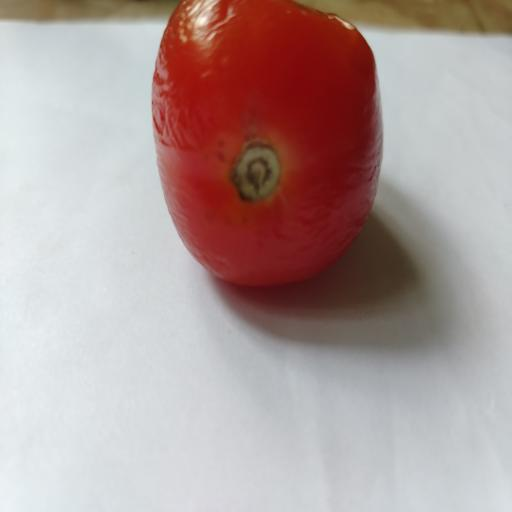spoiled: (152, 0, 383, 285)
